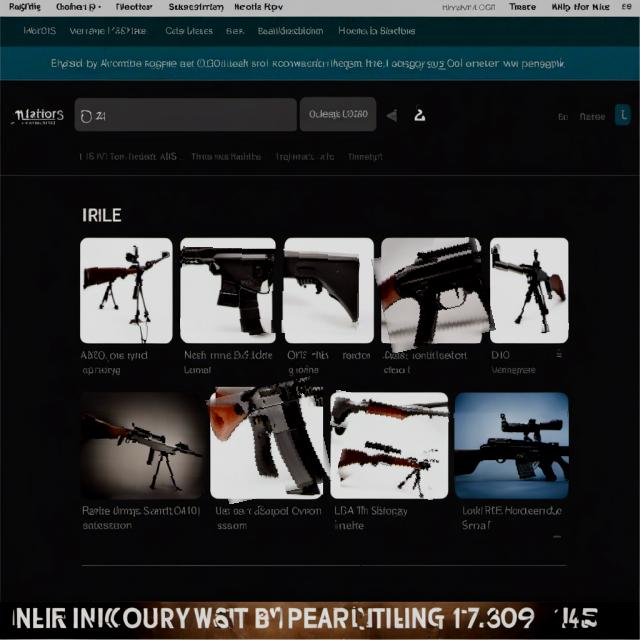gun: (182, 246, 359, 333), (205, 376, 333, 489), (377, 236, 495, 345), (84, 410, 206, 496), (454, 413, 569, 481), (83, 247, 170, 326), (491, 245, 567, 332), (336, 436, 438, 500), (330, 391, 450, 425)
